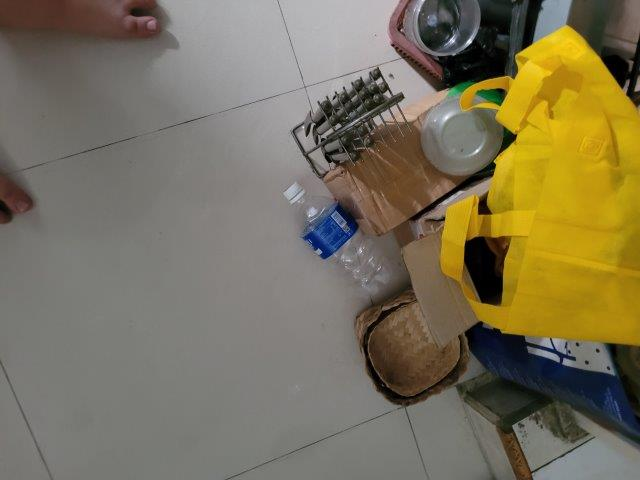botolplastik: (283, 183, 405, 298)
